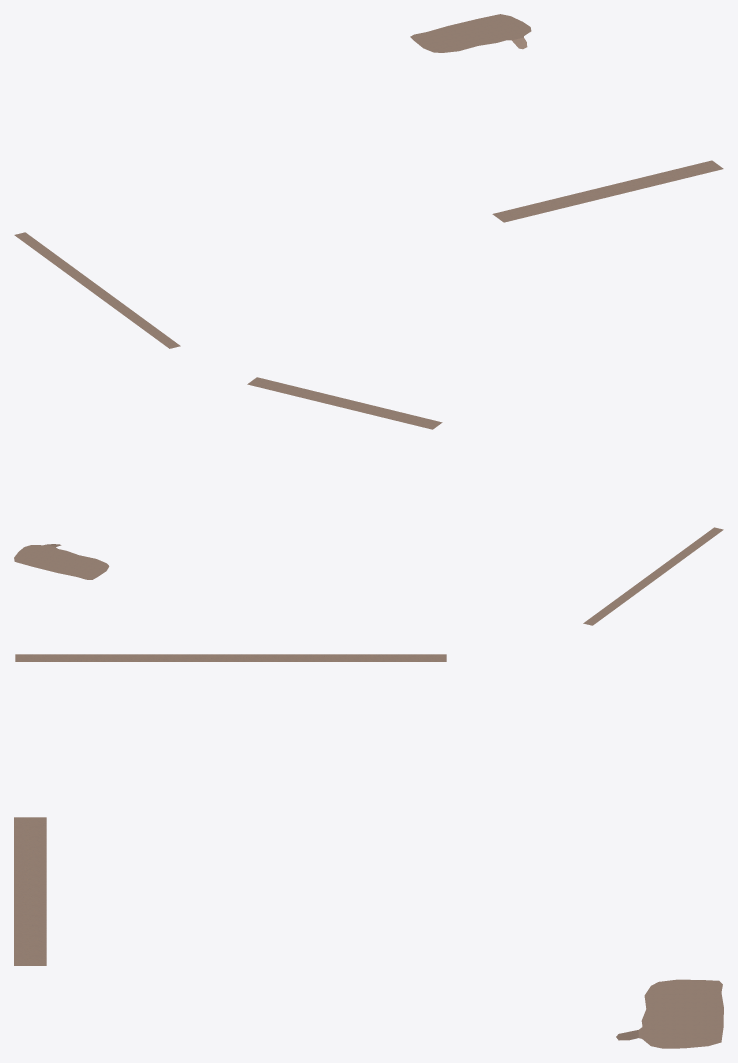
The model's file is kd_stage_135ded_4_130_exterior.glb.
3 renders of one model, top to bottom at view 1: azimuth 30°, elevation 25°; view 2: azimuth 150°, elevation 25°; view 3: azimuth 270°, elevation 25°, orthographic. The views are drawn at different scales.
Visible parts, largest first — view 1: kd_stage_135ded_4_130_exterior; view 2: kd_stage_135ded_4_130_exterior; view 3: kd_stage_135ded_4_130_exterior.
Part boxes in pixels (<box>): kd_stage_135ded_4_130_exterior: <box>14,14,723,348</box>; kd_stage_135ded_4_130_exterior: <box>14,377,723,625</box>; kd_stage_135ded_4_130_exterior: <box>14,654,723,1048</box>.
Bounding box in the file's own units: 13.9 × 1.01 × 10.37.
1 material, 1 textured.
